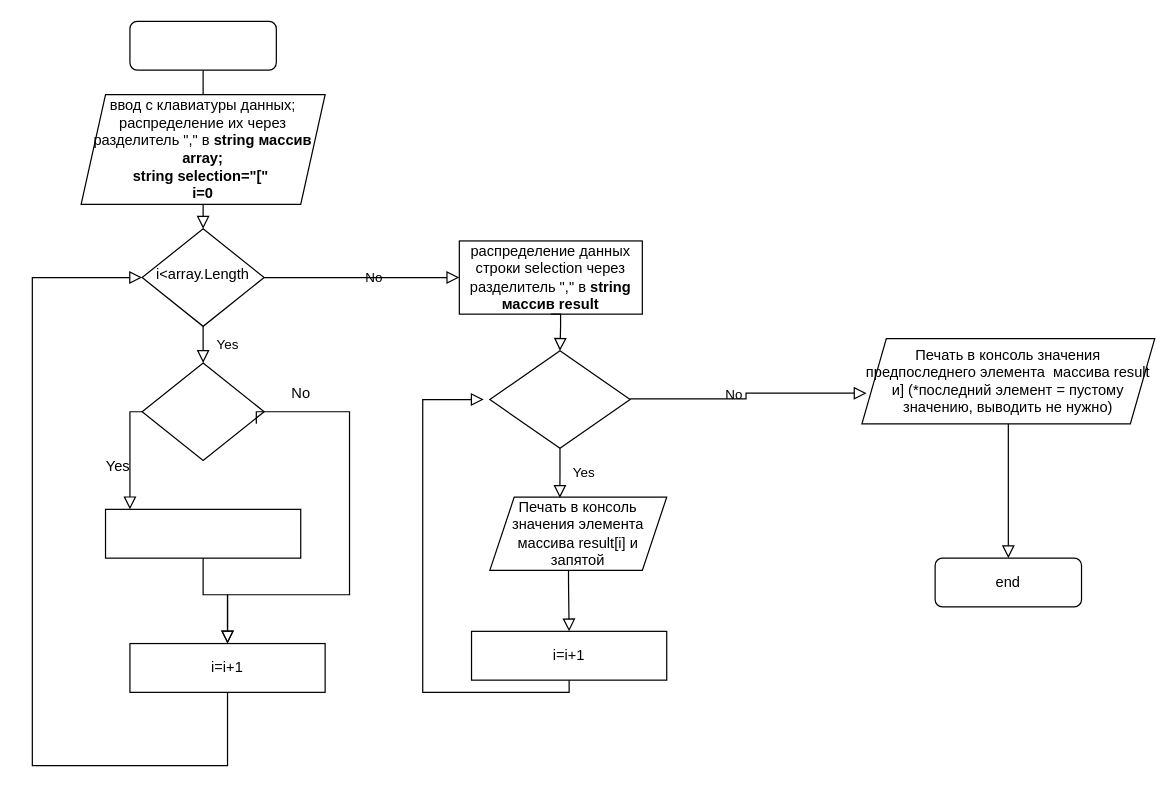
The diagram is 1176 pixels wide and 799 high, and some of its shapes have lost their labels. The shapes that lost their labels are listed below. From the top down, each one's box as (x1, y1, x2, y2) in pixels, then its label:
(129, 20, 276, 70): Start
(141, 362, 264, 461): array[i]<=3?
(489, 350, 630, 448): i<result.Length-2
(104, 508, 301, 558): selection=selection+array[i]
